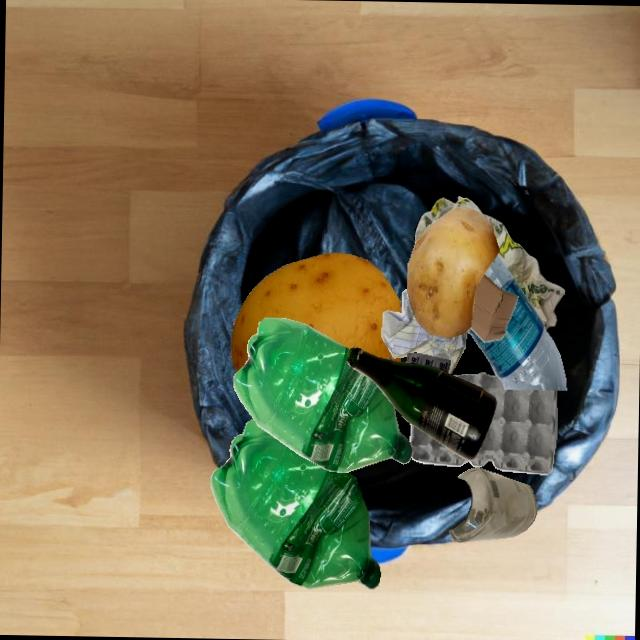biowaste: (231, 252, 401, 372), (406, 207, 499, 338)
cardboard: (409, 372, 556, 474), (469, 274, 518, 342)
glass: (346, 346, 497, 460), (448, 467, 536, 542)
paper: (414, 195, 565, 331), (381, 288, 467, 374), (385, 356, 393, 360)
plastic: (210, 418, 381, 588), (233, 317, 411, 472), (467, 254, 566, 390), (406, 352, 450, 373)
